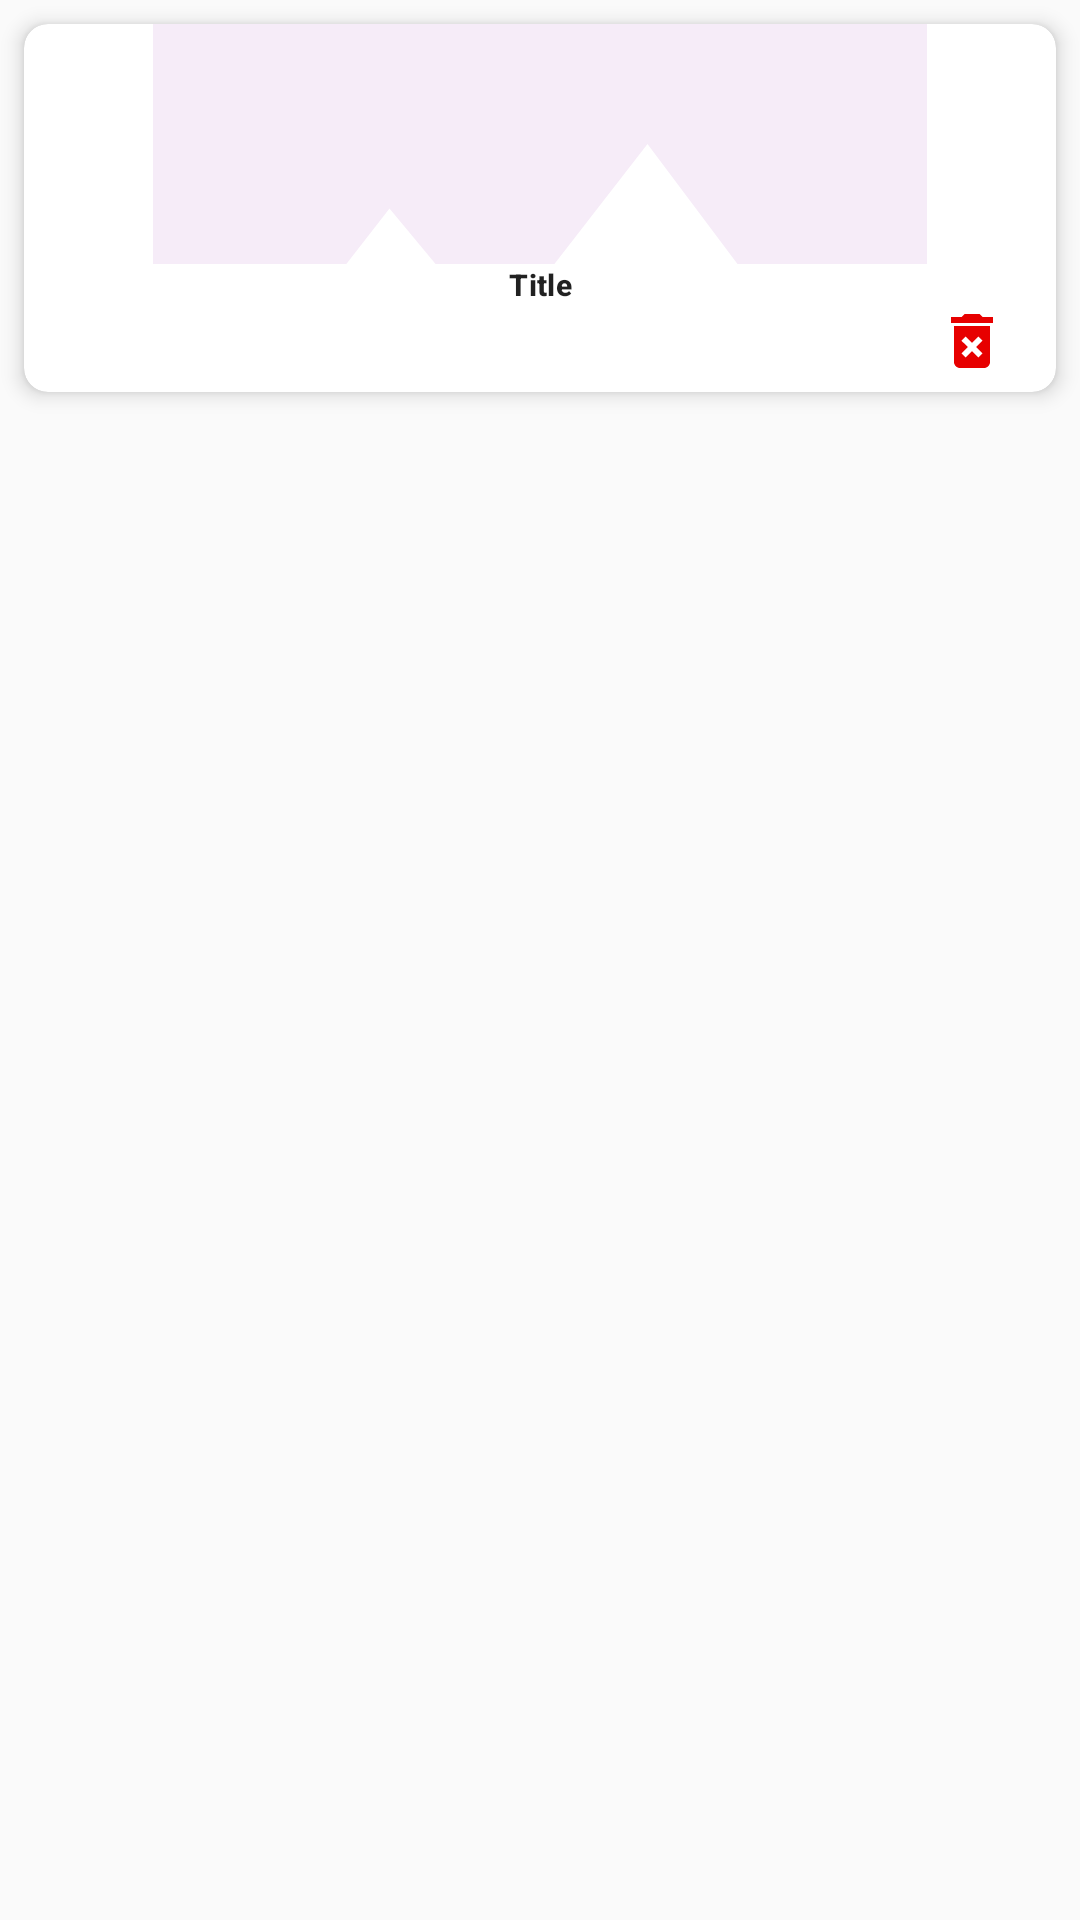

Named icons in this screenshot (1080 × 1920) and their centers, point (x, y):
delete forever: point (972, 341)
